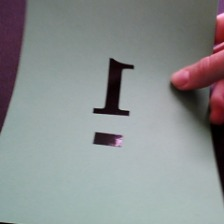green1: (90, 48, 140, 155)
